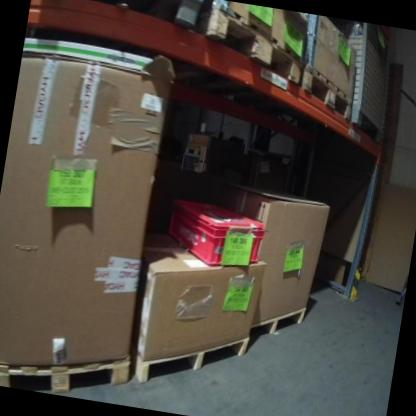pallet: (129, 315, 249, 404), (197, 0, 311, 91), (0, 331, 131, 405), (295, 64, 359, 124), (247, 294, 308, 350)
small_load_carrier: (158, 187, 271, 273)
stillage: (335, 23, 401, 138)
